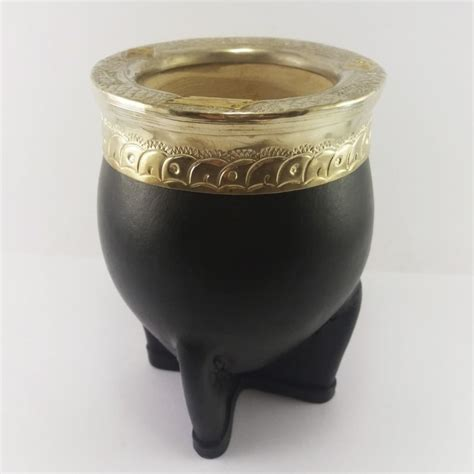cuero: (94, 154, 378, 460)
